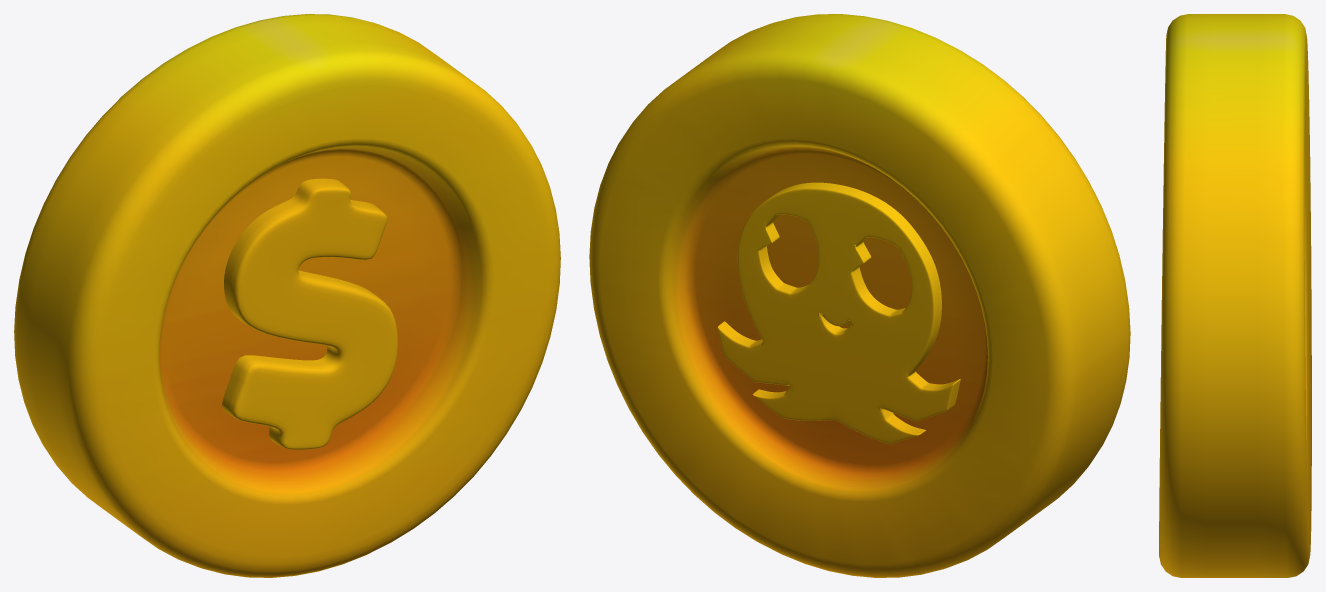
File: coin.glb
3 renders of one model, left to right at view 1: azimuth 30°, elevation 25°; view 2: azimuth 150°, elevation 25°; view 3: azimuth 270°, elevation 25°, orthographic.
Visible parts, largest first — view 1: COIN1; view 2: COIN1; view 3: COIN1.
Part boxes in pixels (x1,y1,x2,y2): COIN1: (14,14,560,577); COIN1: (589,14,1130,577); COIN1: (1159,14,1311,577).
Size of the model in its own units: 1.95 by 1.95 by 0.5291.
1 material, 1 textured.
